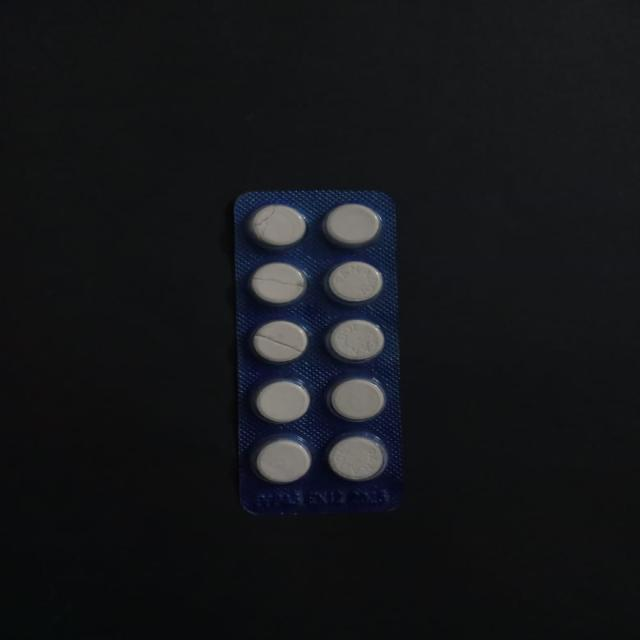defect: (242, 200, 311, 252), (244, 259, 313, 309), (245, 318, 314, 366)
